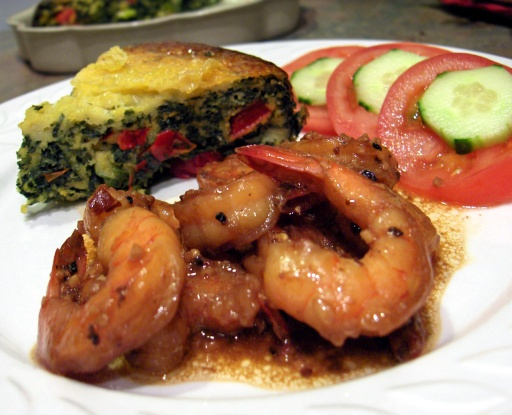background: (12, 26, 409, 242)
